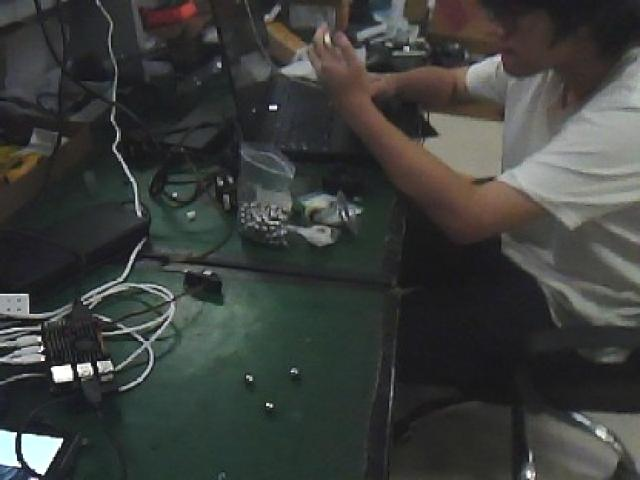steel-ball: (280, 355, 309, 388), (231, 364, 258, 388), (258, 388, 280, 417)
